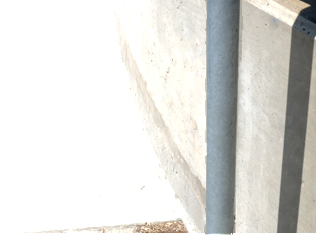Obstacle: (117, 2, 318, 234), (205, 4, 237, 235)
